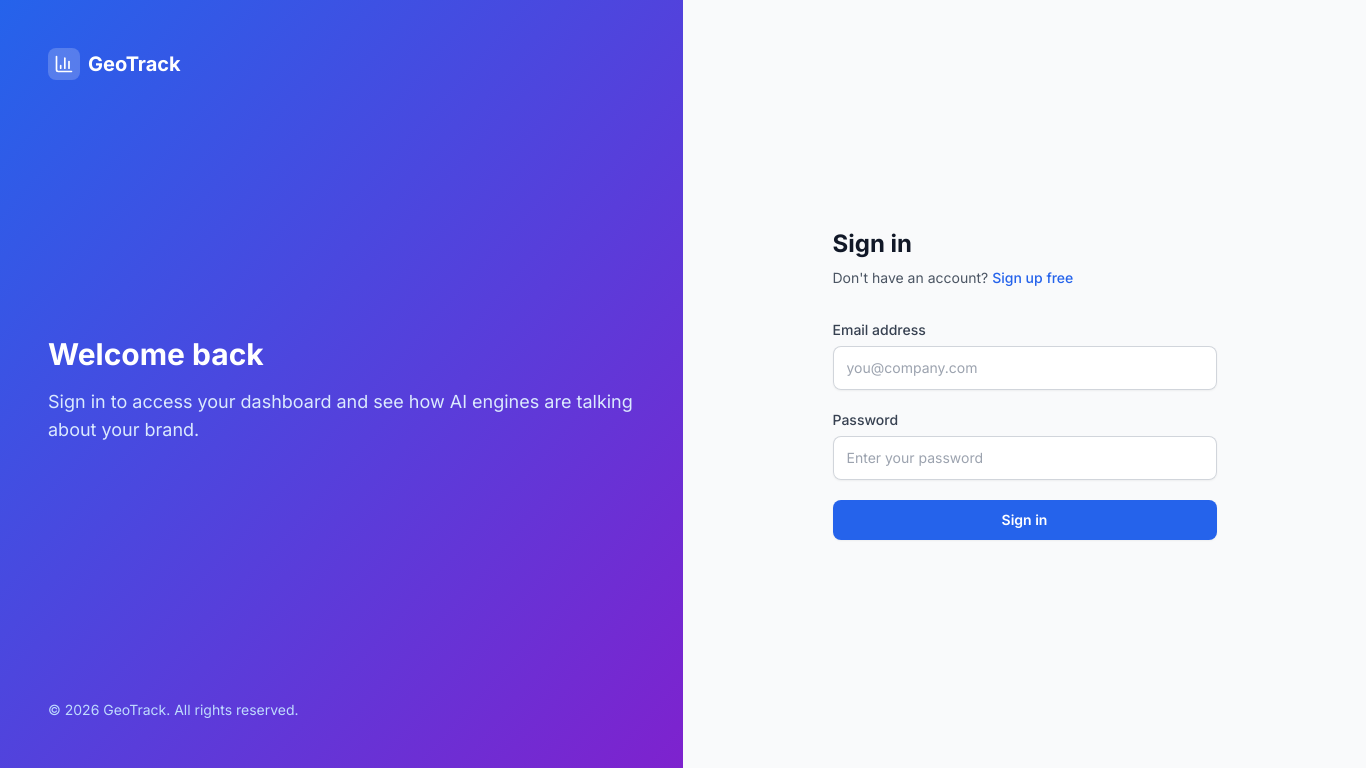
Scenario: LoginPage › shows loading state while submitting
Type "test@test.com" into the field labelled "Email address" at [1024, 368], box [832,346,1216,390]
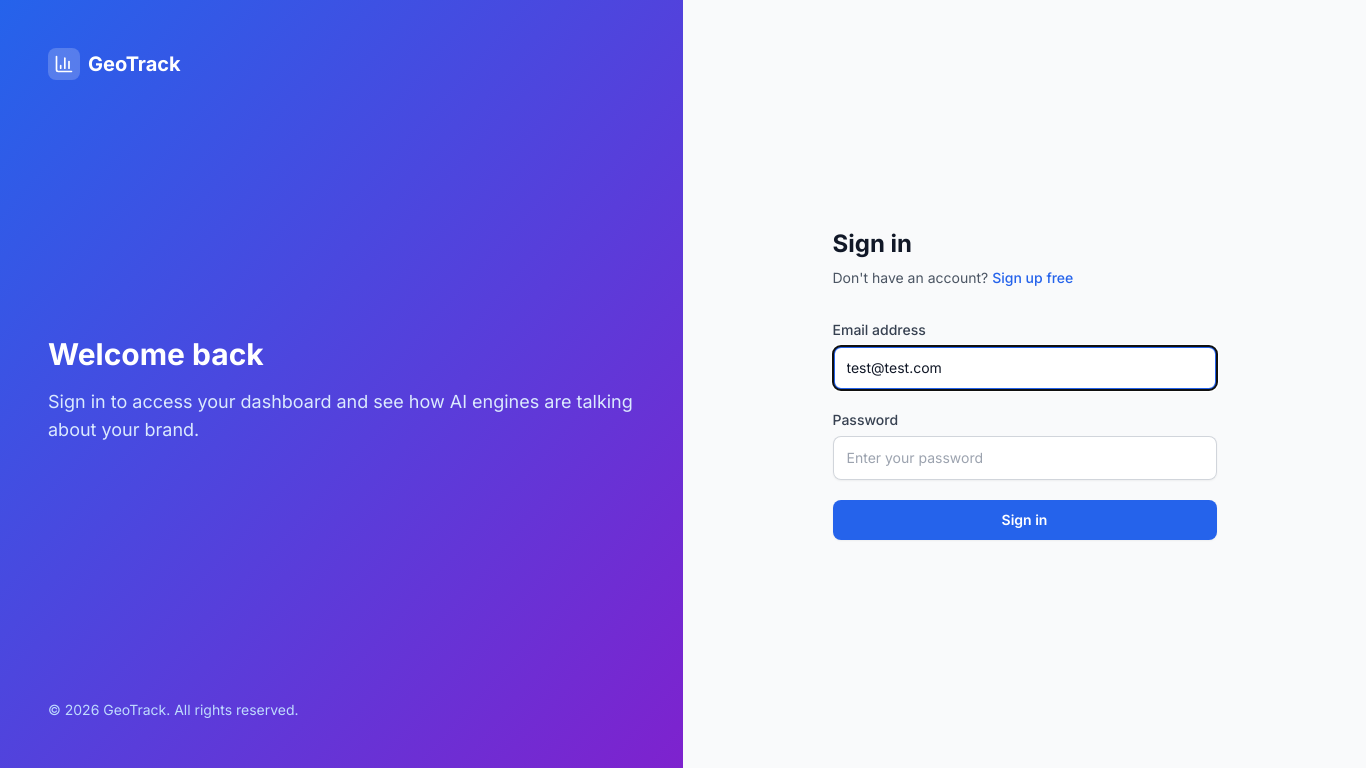
Type "pass" into the password field labelled "Password" at [1024, 458], box [832,436,1216,480]
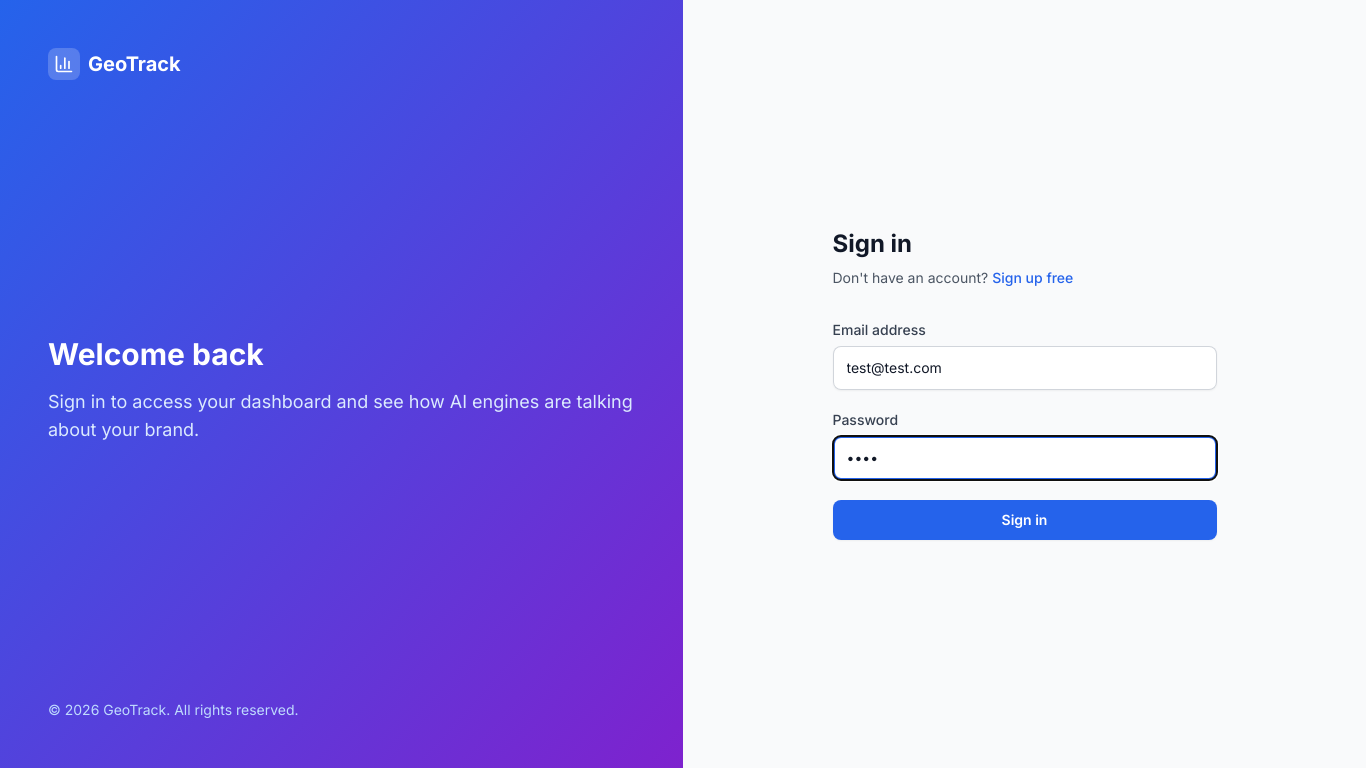
Click the button "Sign in" at [1024, 520], box [832,500,1216,540]
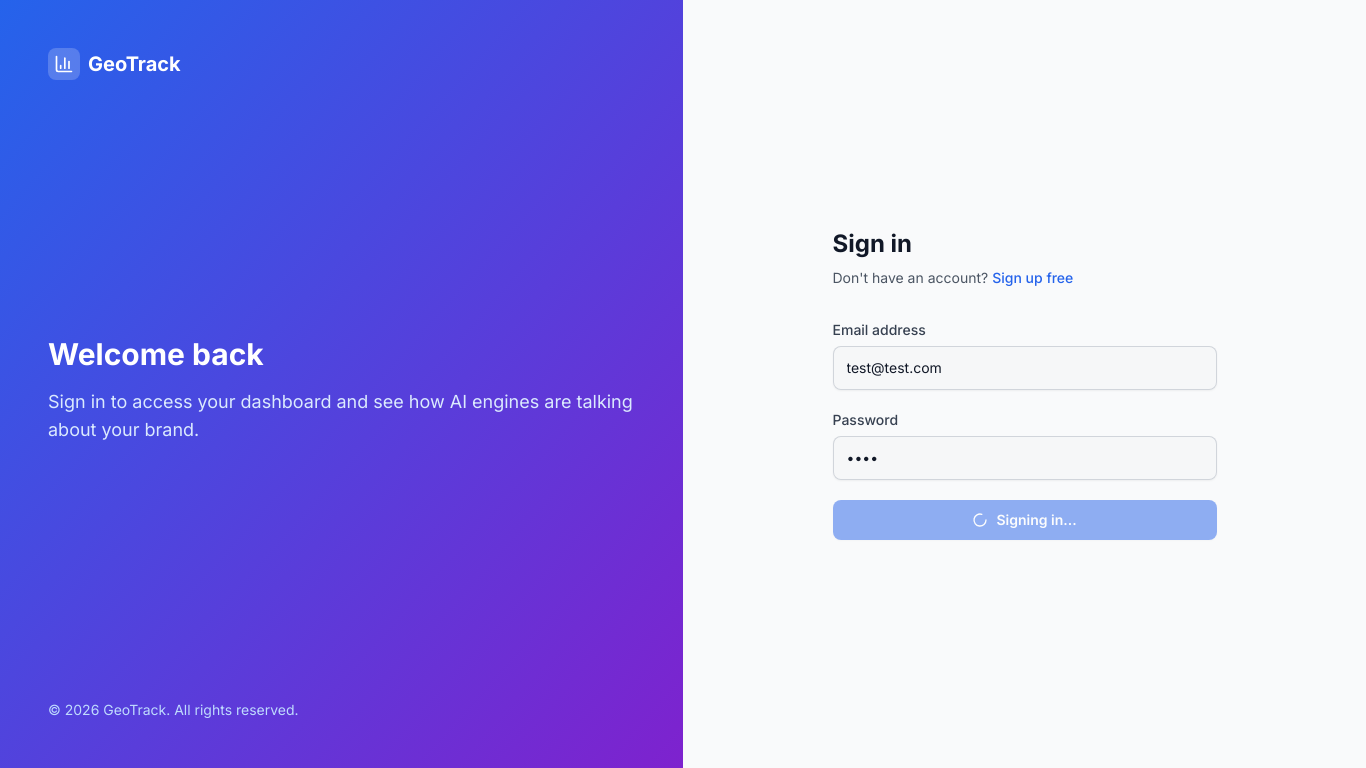
Expected: the button "Signing in..." is shown, [832,500,1216,540]
